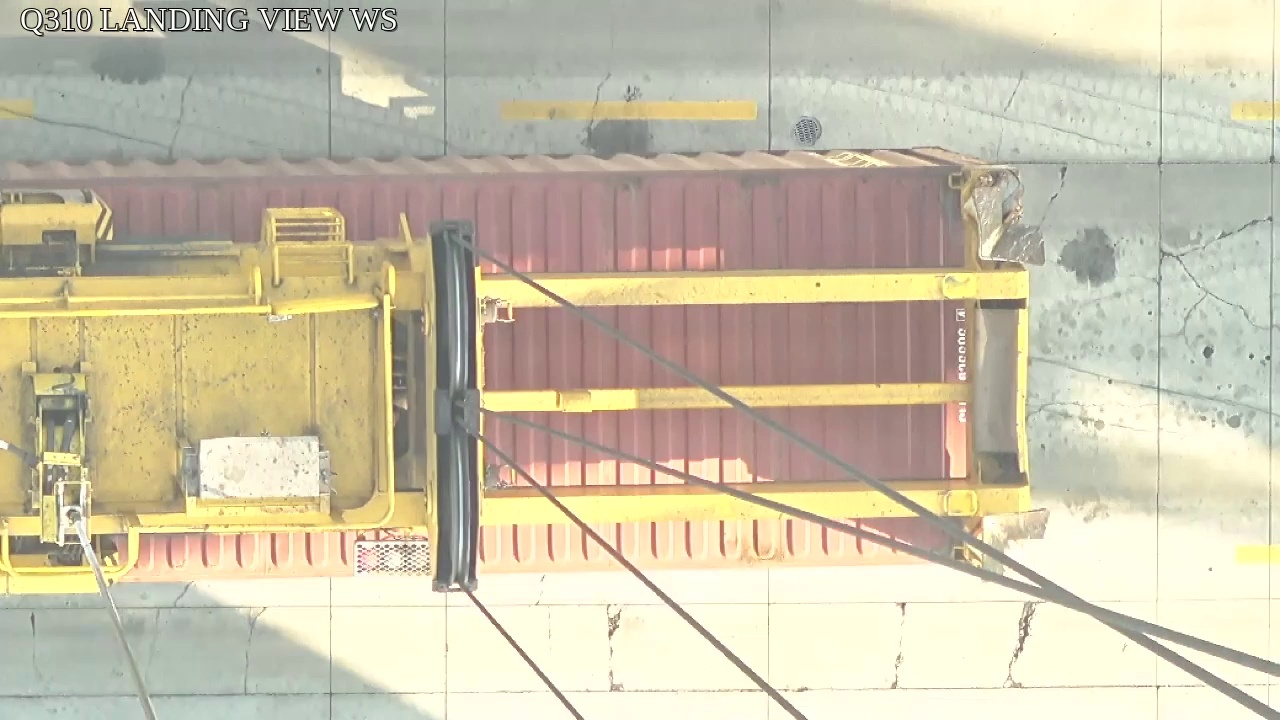right: (421, 223, 486, 591)
